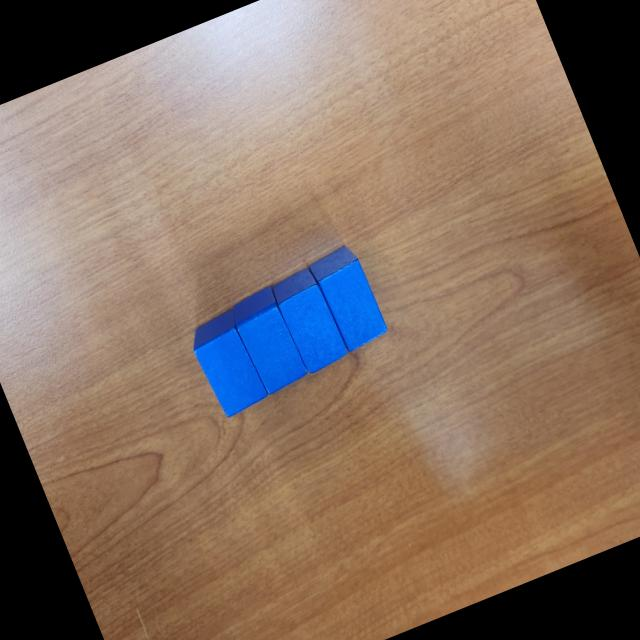blue: (225, 283, 311, 397), (305, 241, 391, 355), (185, 308, 272, 420), (267, 264, 351, 376)
